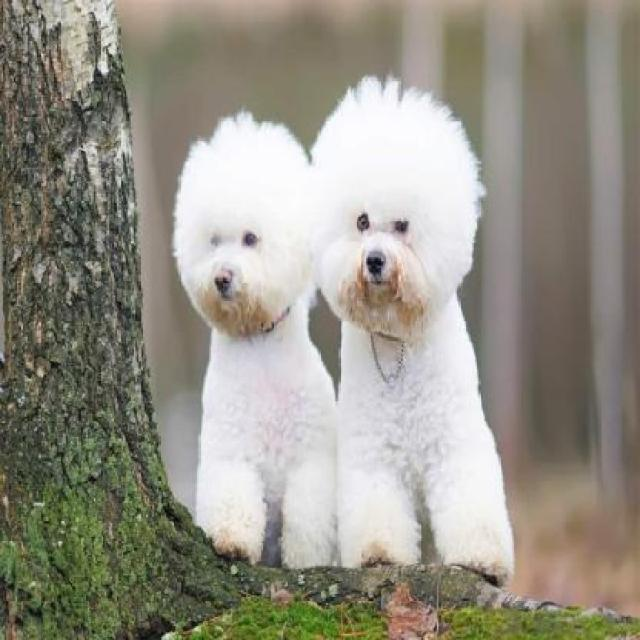animals: (303, 80, 522, 594), (168, 102, 326, 566)
